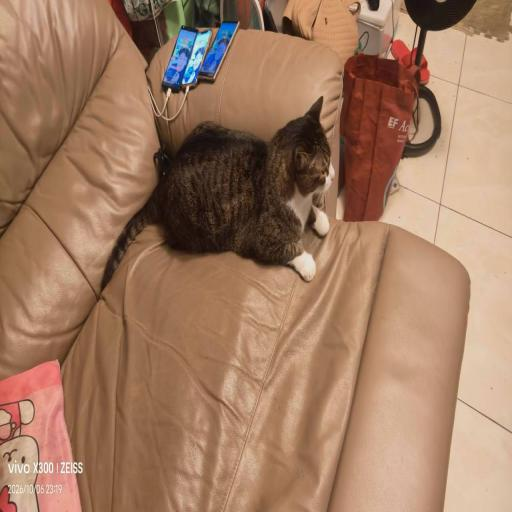cat: (141, 104, 332, 280)
